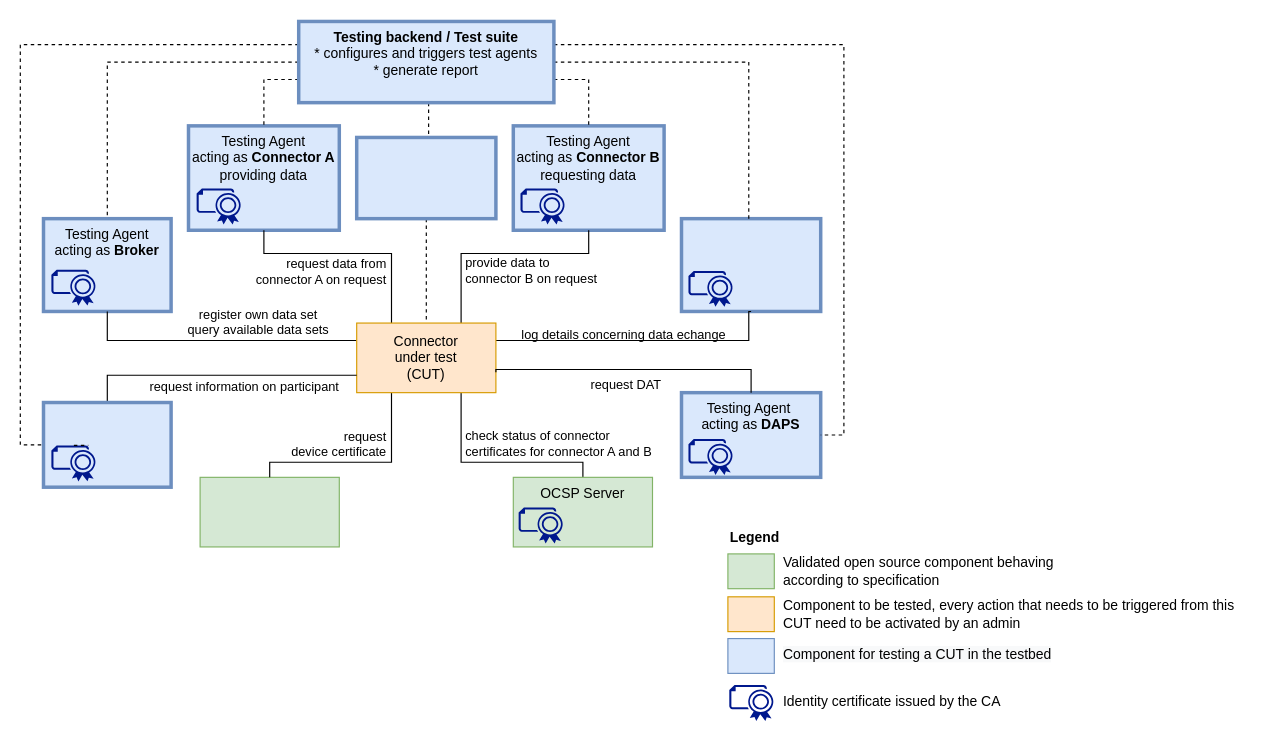
Some shapes in this 1266 by 741 pixel diagram are drawn without their labels. The shapes that lost their labels are listed below. From the top down, each one's box as (x1, y1, x2, y2) in pixels, then its label:
(354, 135, 497, 220): Testing Agent for connector endpoints (user login, ...)
(679, 216, 822, 313): Testing Agent acting as Clearing House
(41, 400, 172, 488): Testing Agent acting as ParIS
(199, 476, 339, 547): CA
